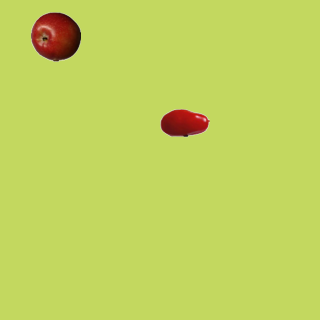Apple Braeburn: (30, 11, 80, 61)
Tomato 2: (159, 97, 209, 147)
